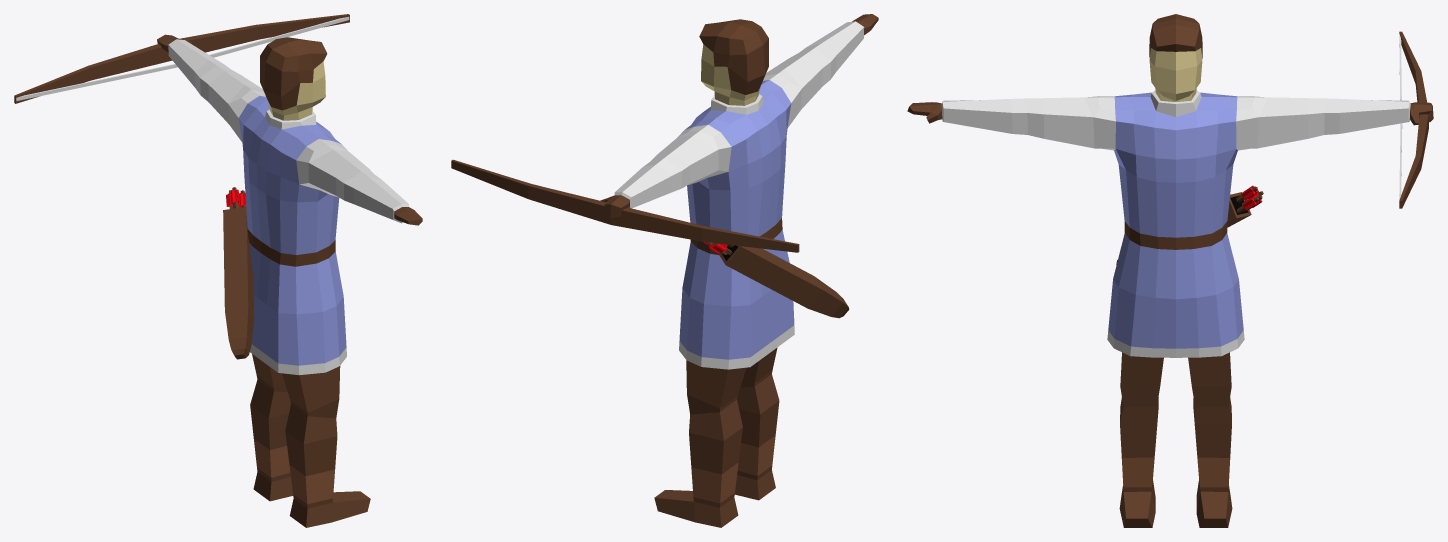
The model's file is archer.glb.
3 renders of one model, left to right at view 1: azimuth 30°, elevation 25°; view 2: azimuth 150°, elevation 25°; view 3: azimuth 270°, elevation 25°, orthographic. The views are drawn at different scales.
Visible parts, largest first — view 1: DAArcher; view 2: DAArcher; view 3: DAArcher.
Boxes of the visible parts, box(x1,y1,x2,y2) form: DAArcher: box(14, 14, 422, 527); DAArcher: box(451, 14, 878, 527); DAArcher: box(907, 14, 1433, 527).
Bounding box in the file's own units: 0.1683 × 0.2234 × 0.2213.
